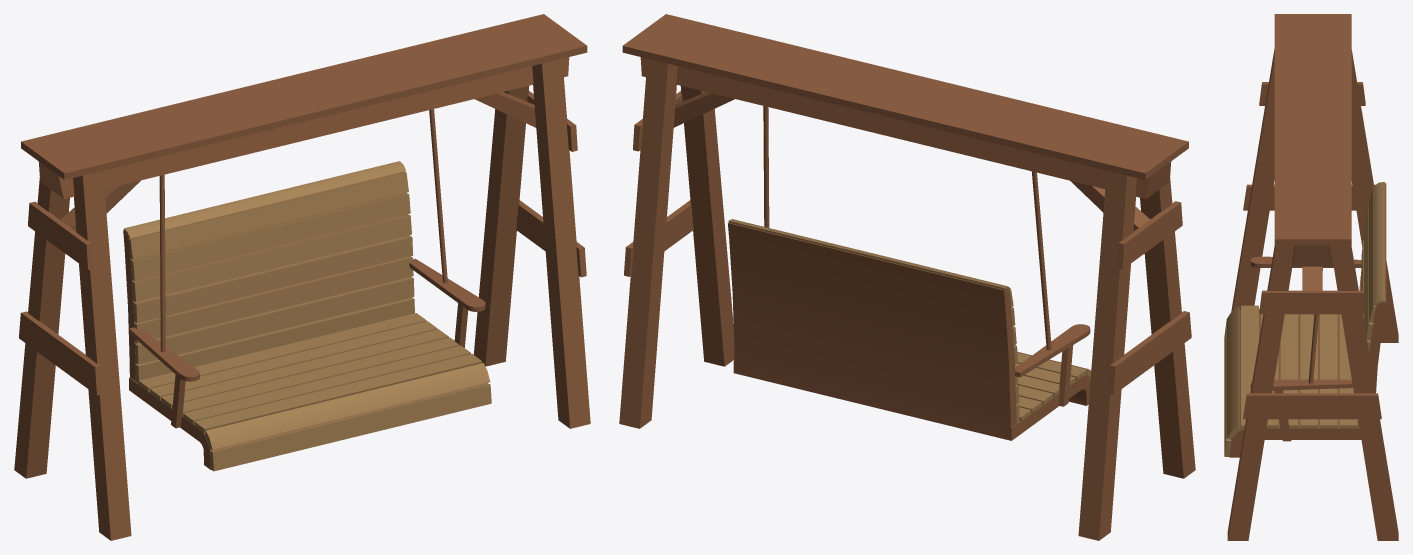
Rendered from Swing Chair_1.fbx.
3 renders of one model, left to right at view 1: azimuth 30°, elevation 25°; view 2: azimuth 150°, elevation 25°; view 3: azimuth 270°, elevation 25°, orthographic. The views are drawn at different scales.
Visible parts, largest first — view 1: Swing Chair_1; view 2: Swing Chair_1; view 3: Swing Chair_1.
Boxes of the visible parts, <box> form: Swing Chair_1: <box>14,14,590,540</box>; Swing Chair_1: <box>619,14,1195,540</box>; Swing Chair_1: <box>1224,14,1398,540</box>.
Bounding box in the file's own units: 240 × 155 × 78.25.
